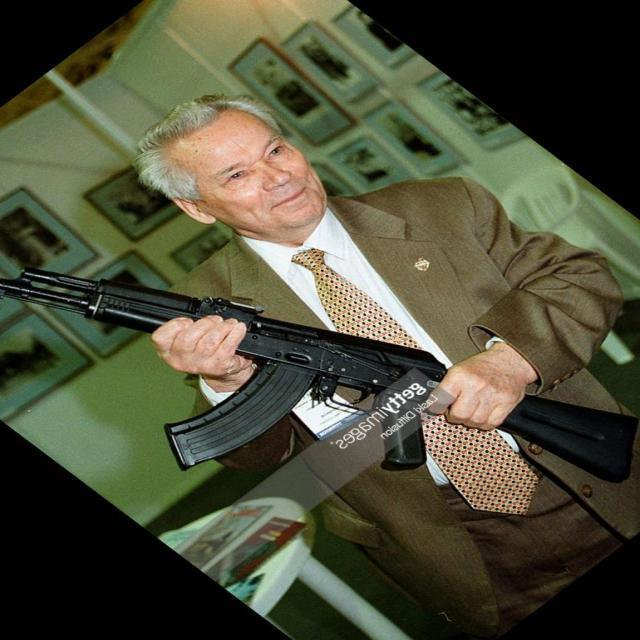weapon: (2, 266, 638, 484)
